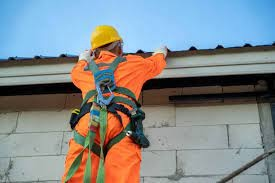Helmet: (88, 25, 124, 49)
Person: (64, 22, 150, 183)
Safety_Harness: (66, 61, 144, 182)
